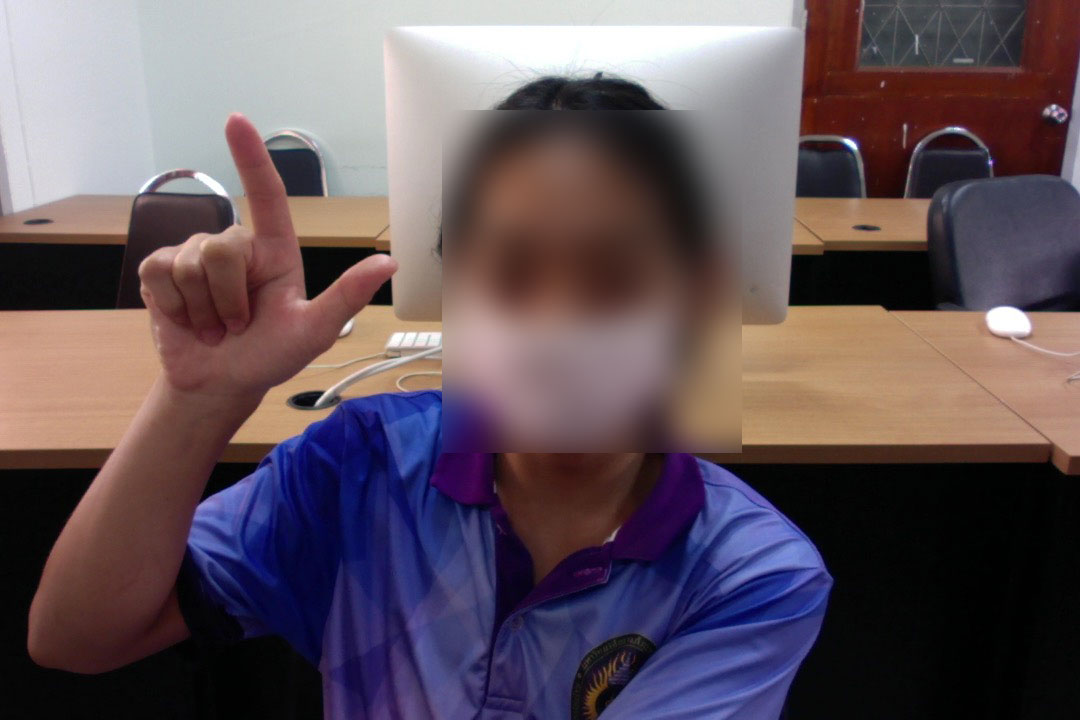lor: (118, 92, 420, 431)
